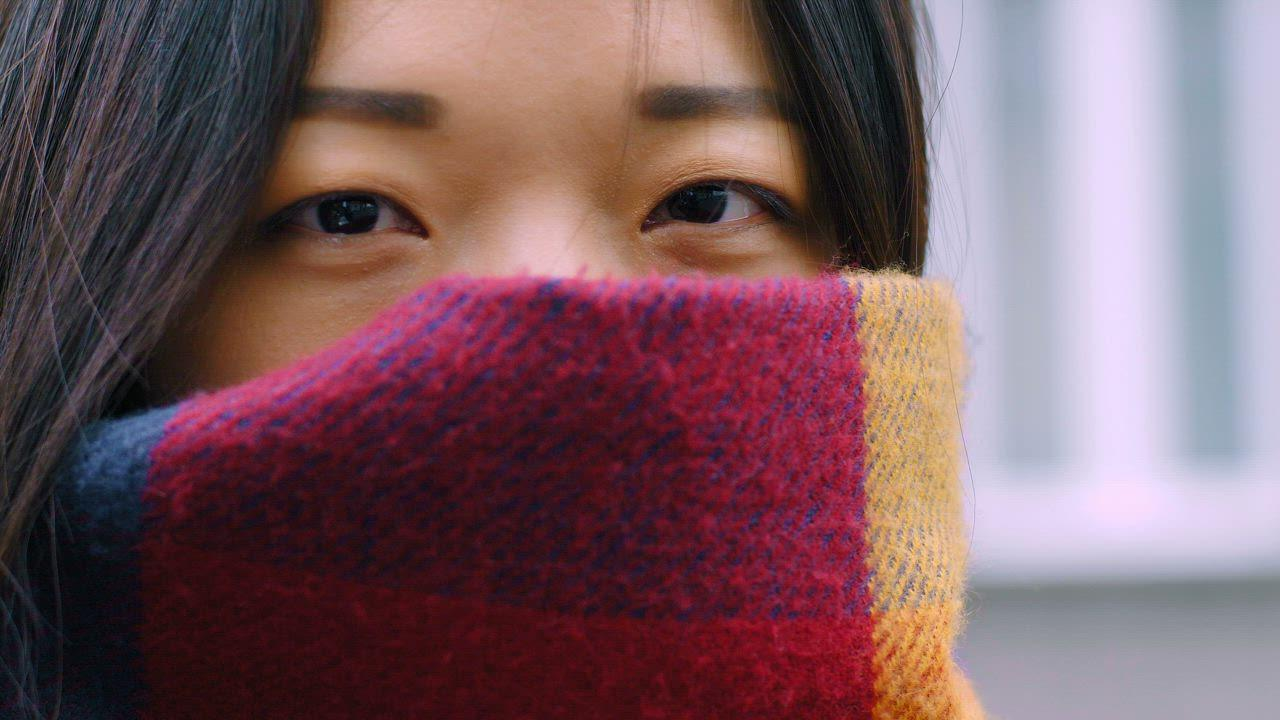scarf-kerchief: (10, 230, 1108, 720)
